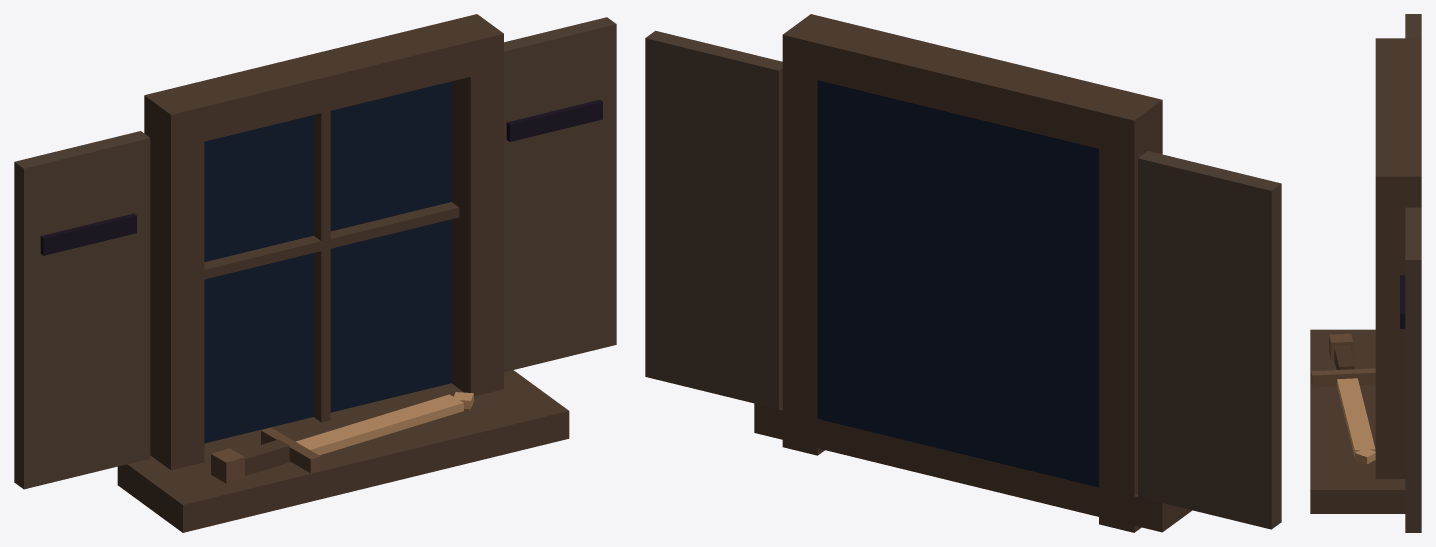
The model's file is sill_sword.glb.
The picture shows the model from 3 angles, left to right: view 1: azimuth 30°, elevation 25°; view 2: azimuth 150°, elevation 25°; view 3: azimuth 270°, elevation 25°; orthographic projection. The views are drawn at different scales.
Visible parts, largest first — view 1: sill_sword; view 2: sill_sword; view 3: sill_sword.
Boxes of the visible parts, <box> form: sill_sword: <box>14,14,616,532</box>; sill_sword: <box>645,14,1281,532</box>; sill_sword: <box>1310,14,1421,532</box>.
Bounding box in the file's own units: 0.89 × 0.56 × 0.17.
